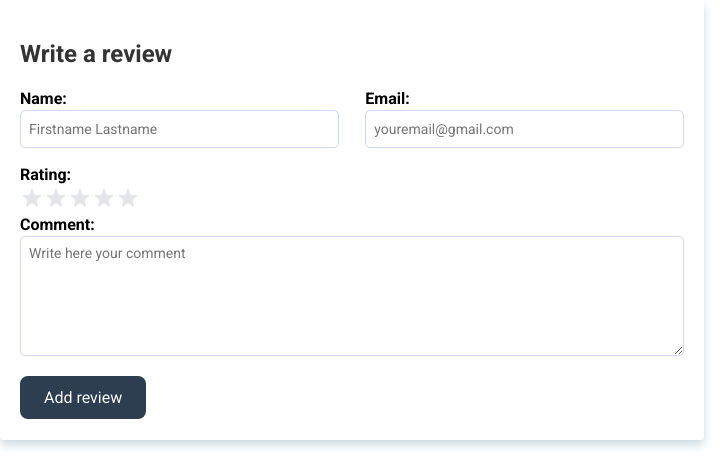
Test: it should submit the data with name, email & comment and display thank you screen
Type "Test Name" into the field with test id "name" at (179, 129), box [20, 110, 339, 148]
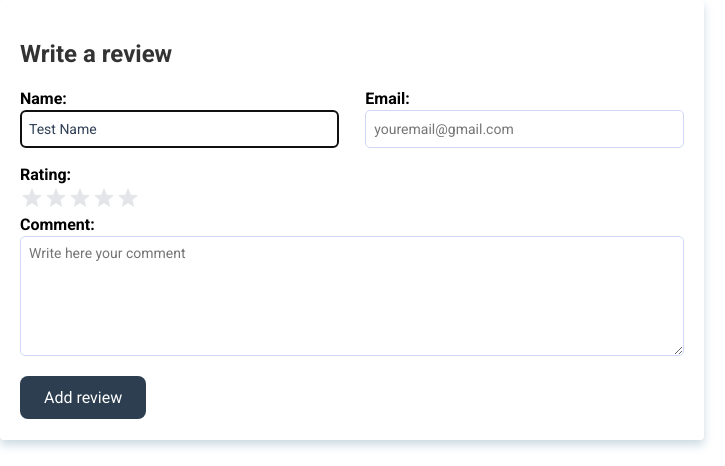
Type "test@email.com" into the field with test id "email" at (525, 129), box [365, 110, 684, 148]
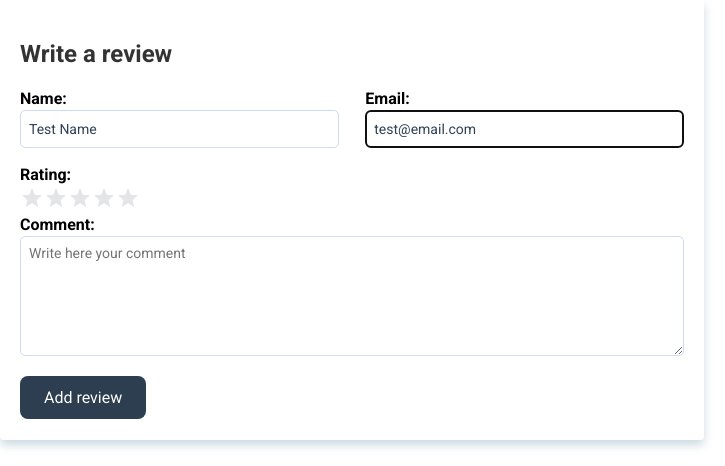
Type "Test Comment" into the text box with test id "comment" at (352, 296), box [20, 236, 684, 356]
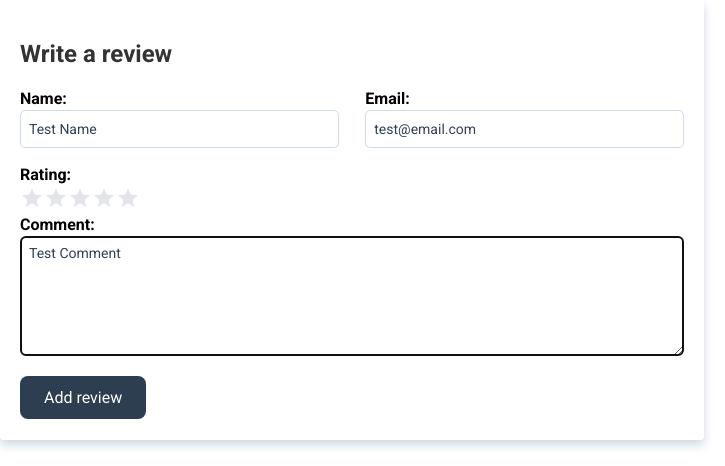
Click the button with test id "submit" at (83, 398), box [20, 376, 146, 419]
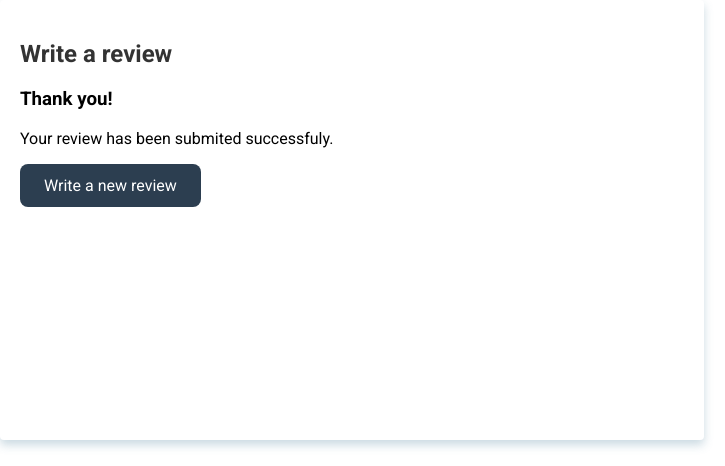
Now the element with test id "thank-you-page" is shown, box [20, 88, 334, 207]
